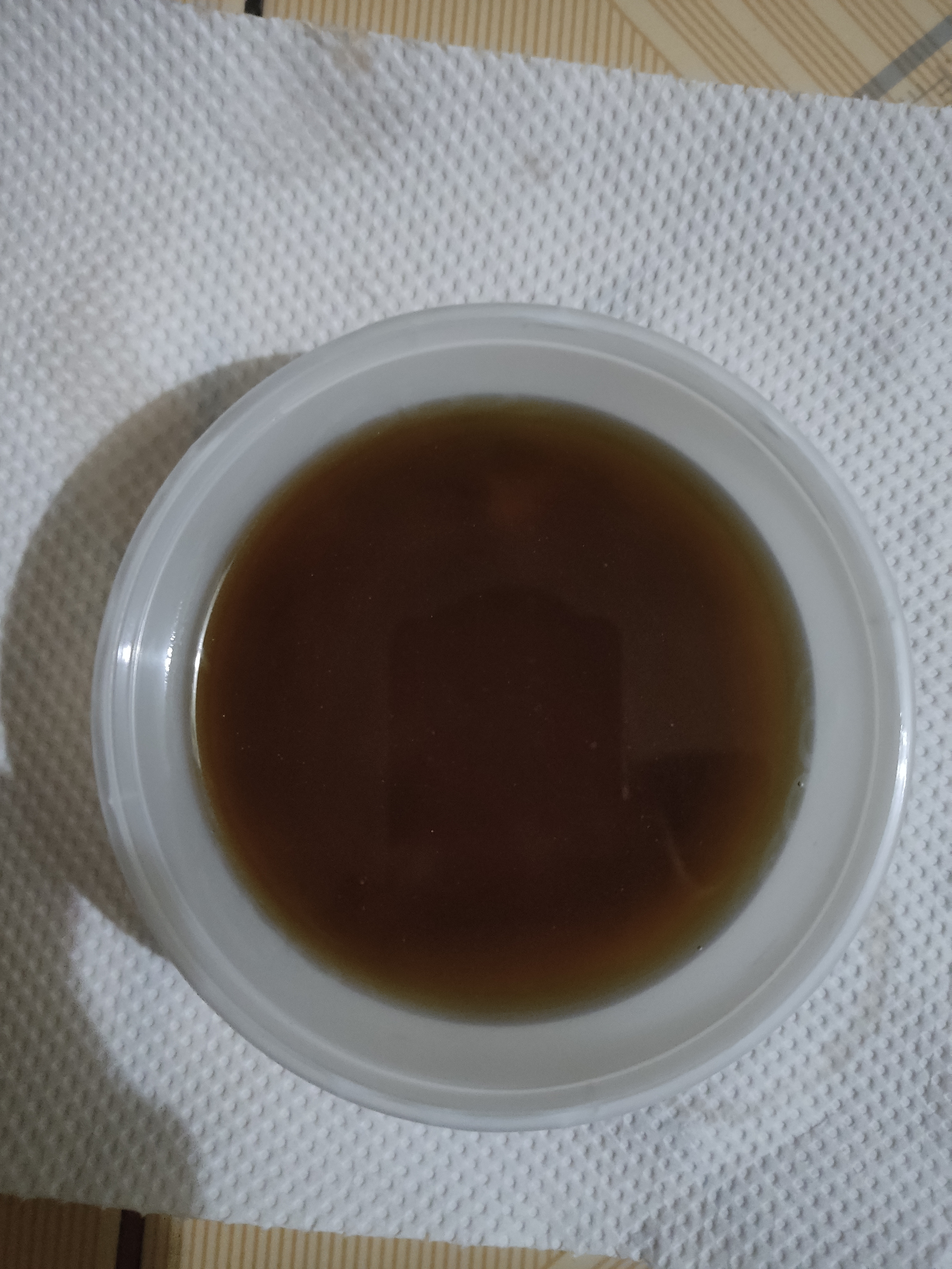non-reusable: (137, 404, 833, 1038)
